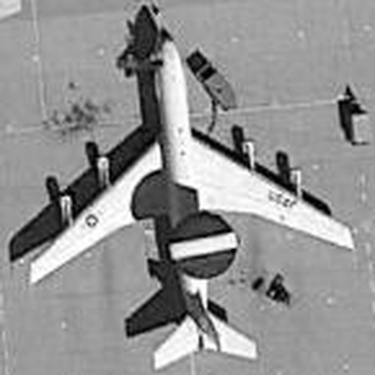airplane: (8, 16, 365, 369)
